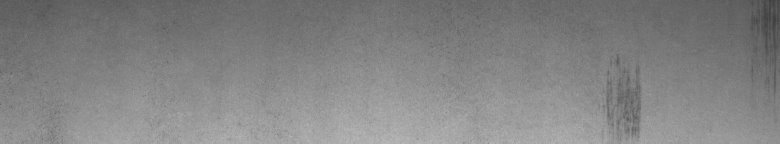ka: (599, 57, 644, 136)
